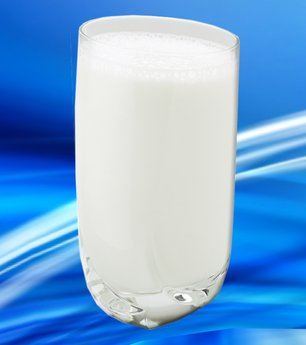glass of milk: (80, 32, 217, 318)
